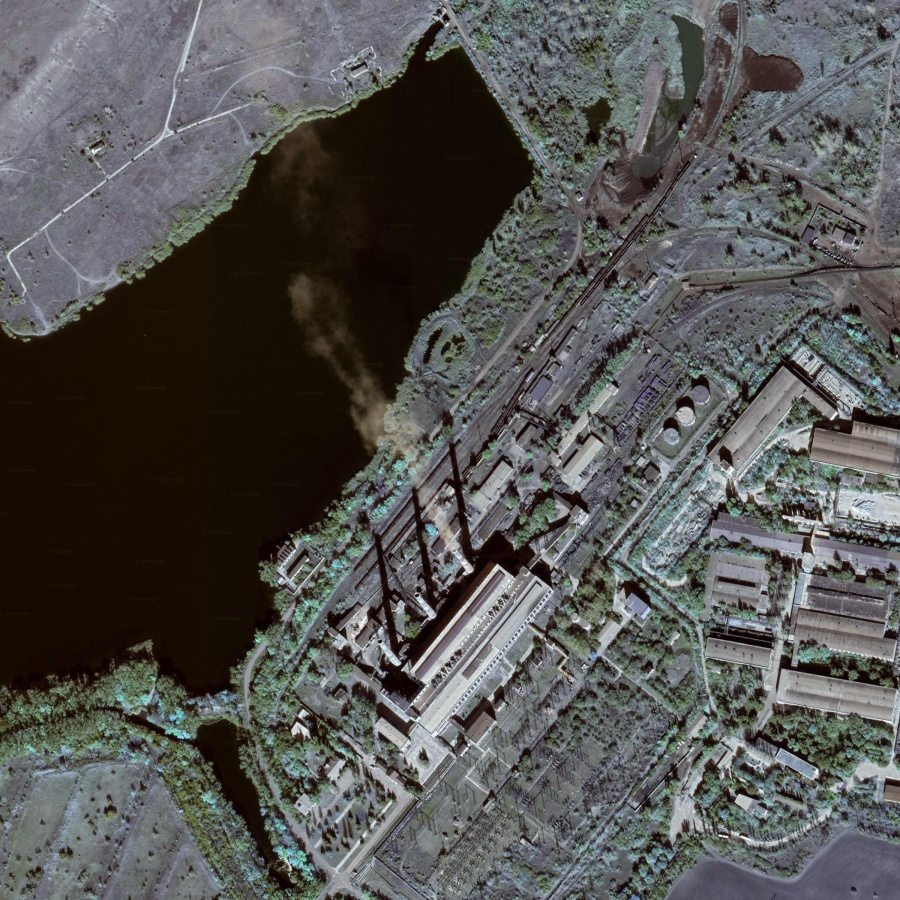PowerPlant: (337, 362, 702, 718)
